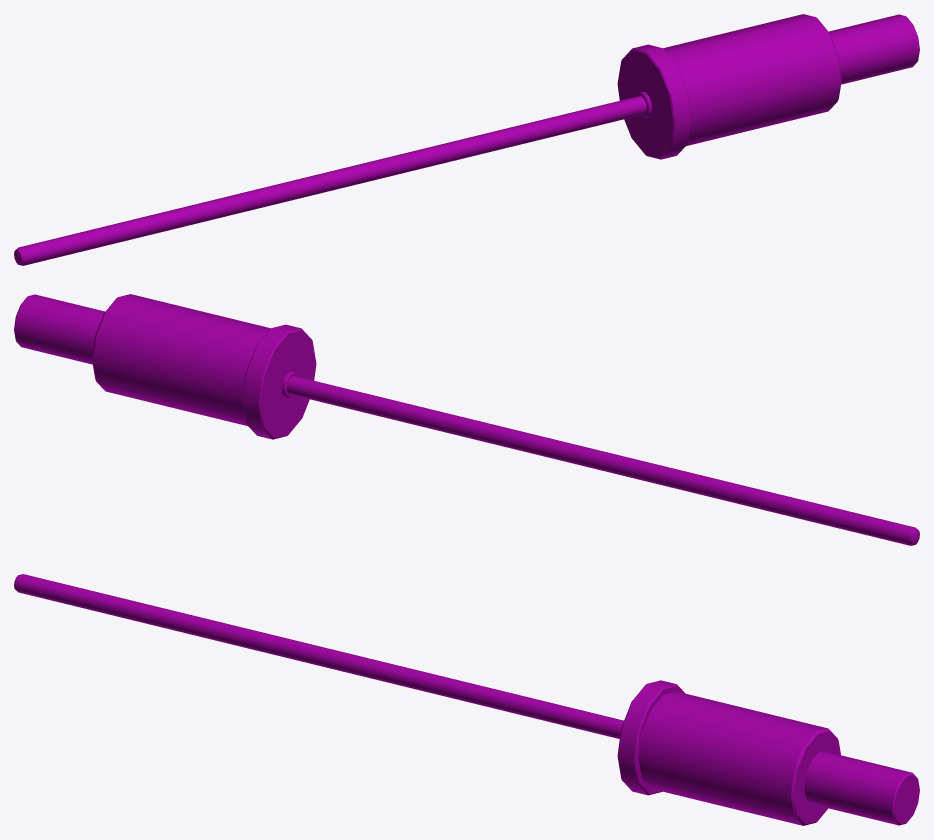
The model's file is Tools_ShaverTip_01.fbx.
The picture shows the model from 3 angles, top to bottom: view 1: azimuth 30°, elevation 25°; view 2: azimuth 150°, elevation 25°; view 3: azimuth 330°, elevation 25°; orthographic projection.
Parts seen in each view (by area): view 1: Tools_Shaver_01:Tools_ShaverTip_01; view 2: Tools_Shaver_01:Tools_ShaverTip_01; view 3: Tools_Shaver_01:Tools_ShaverTip_01.
Part boxes in pixels (x1,y1,x2,y2): Tools_Shaver_01:Tools_ShaverTip_01: (14,14,919,265); Tools_Shaver_01:Tools_ShaverTip_01: (14,294,919,545); Tools_Shaver_01:Tools_ShaverTip_01: (14,574,919,825).
Size of the model in its own units: 7.84 by 0.876 by 0.876.
